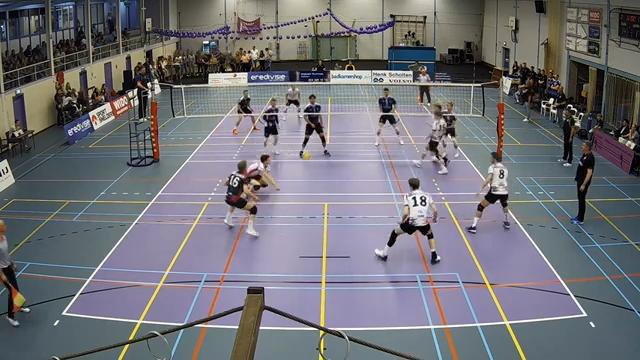Dig: (213, 158, 263, 238), (237, 153, 285, 199)
Player: (375, 178, 440, 263), (467, 152, 509, 233), (414, 104, 448, 174), (299, 94, 330, 157), (375, 88, 403, 145), (233, 90, 258, 134), (261, 98, 279, 154), (443, 102, 458, 157), (284, 85, 301, 119)
ball: (299, 149, 310, 161)
